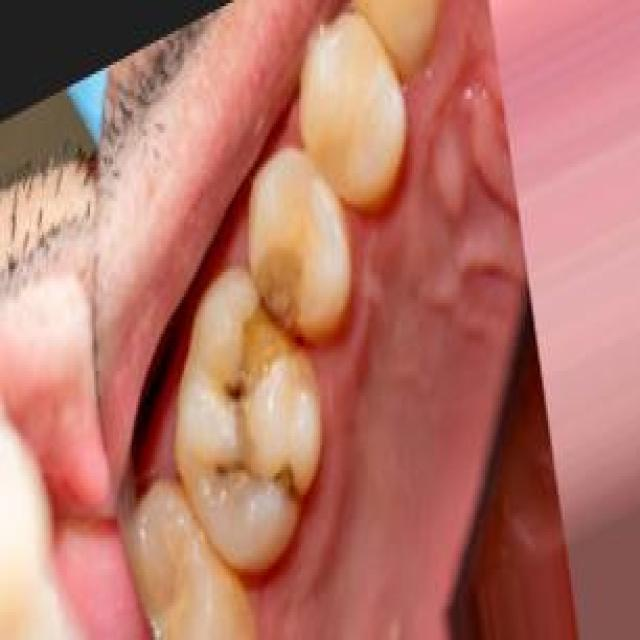caries: (187, 266, 310, 505), (248, 161, 349, 314)
